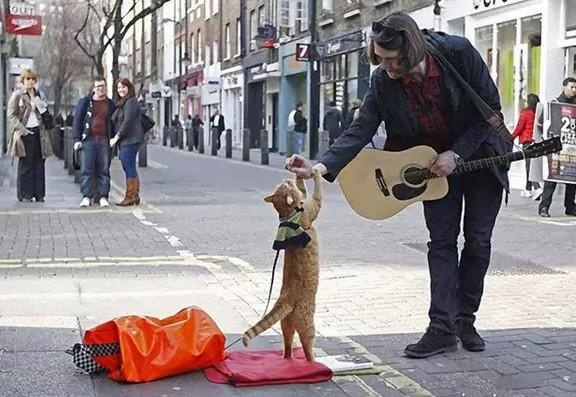cat: (242, 170, 322, 365)
